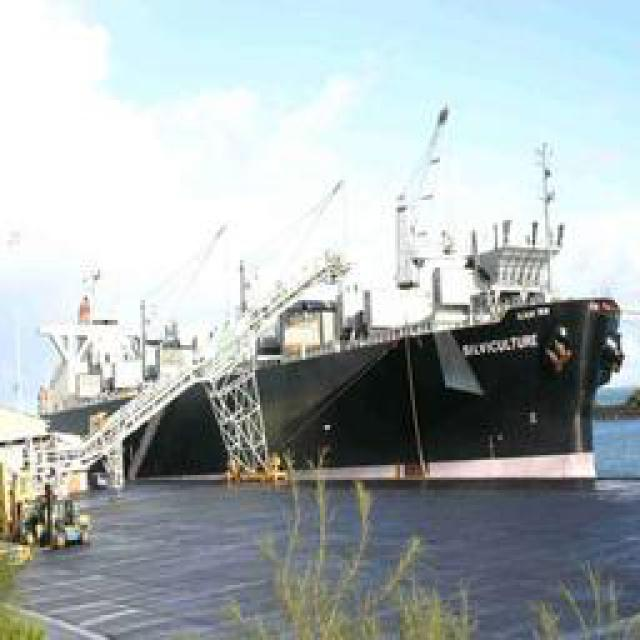Ship: (28, 87, 630, 492)
